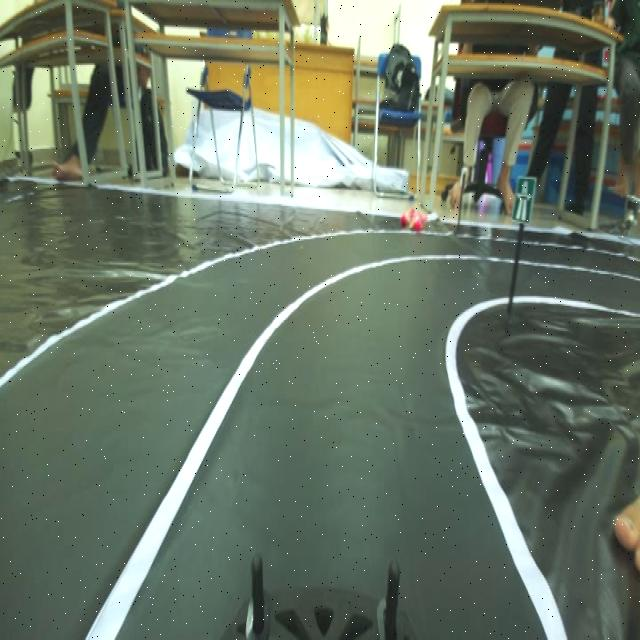highway_entry: (512, 170, 538, 232)
